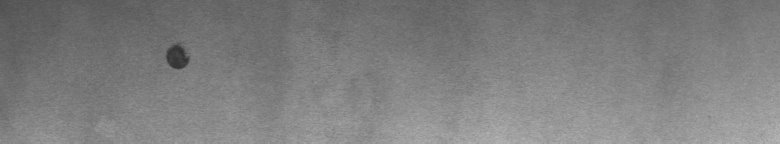fi: (160, 36, 196, 76)
